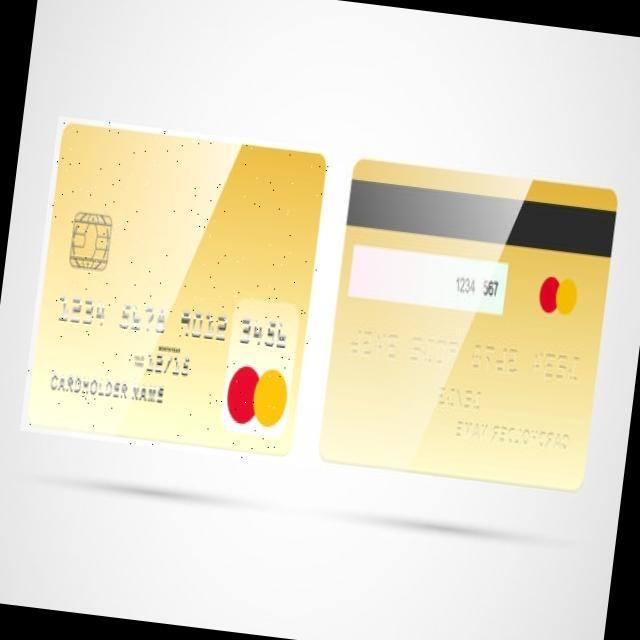payment_card: (21, 116, 327, 456), (318, 157, 618, 492)
